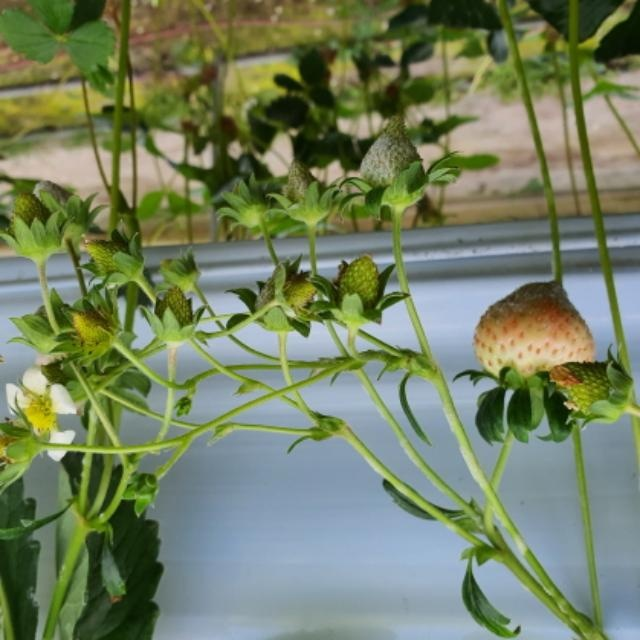Powdery Mildew Fruit: (359, 115, 429, 209), (285, 160, 333, 224), (35, 178, 86, 238)
